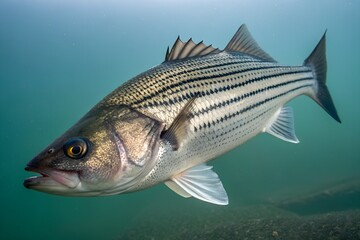Striped Bass: (10, 20, 347, 208)
